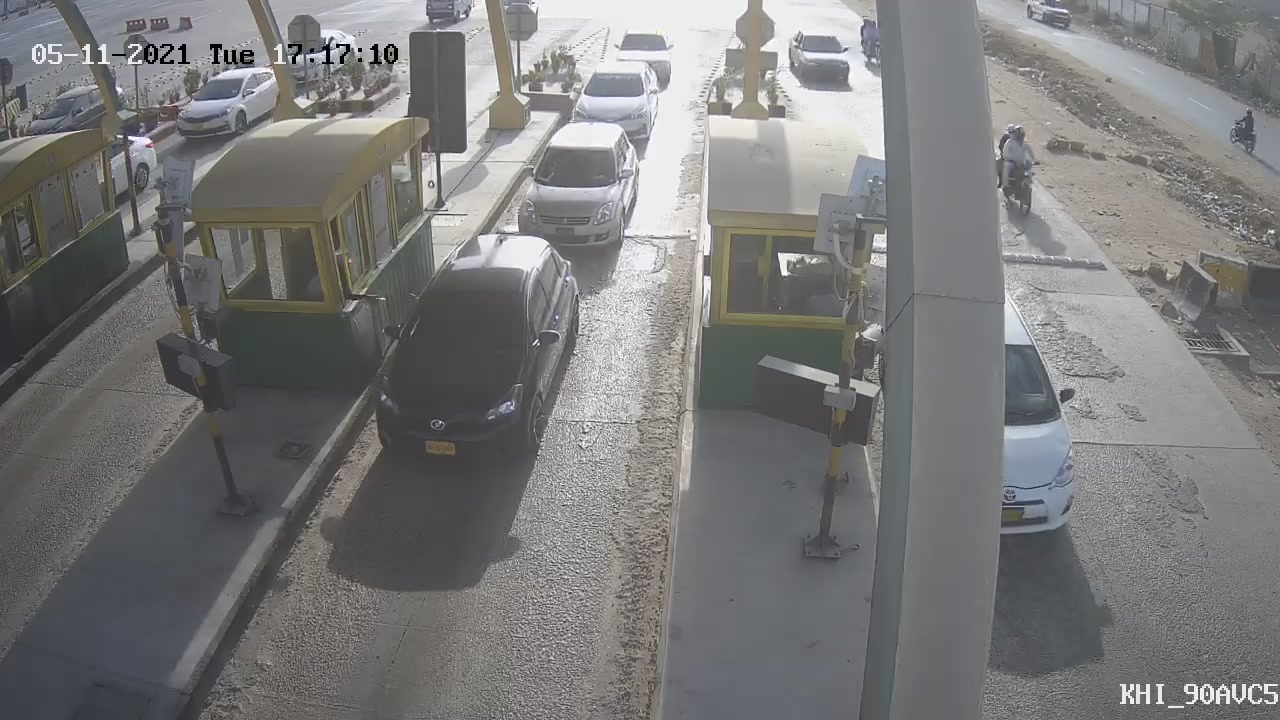F1: (352, 218, 596, 491), (498, 107, 655, 274), (551, 55, 672, 155)
